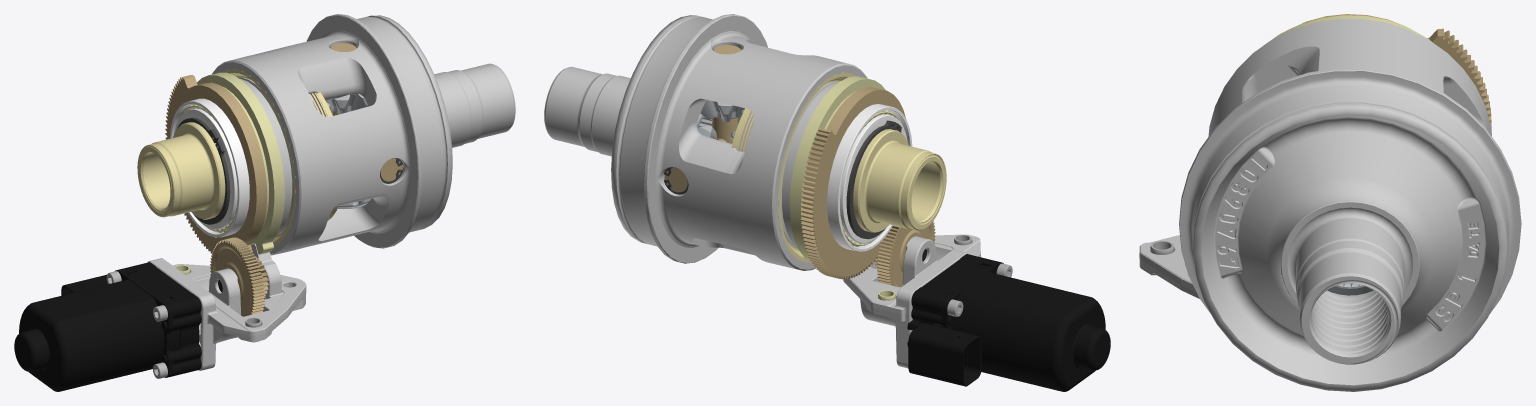
The model's file is TaycanGearRotation10.glb.
3 views of the same model, side by side, from view 1: azimuth 30°, elevation 25°; view 2: azimuth 150°, elevation 25°; view 3: azimuth 270°, elevation 25° (orthographic). The views are drawn at different scales.
Parts seen in each view (by area): view 1: EmptyZupcanici, 1600064752, 1600034146_PRT__G_2, Mesh_136, 1600032356_PRT__G_2, DIN628_SNR_65X92X10_5IR_PRT__A, 1600032111_PRT__D_2, Mesh_138, 1600030653_PRT__E_2, DIN471-A65-2_3_PRT__F_1, Gear 3; view 2: EmptyZupcanici, 1600064752, 1600034146_PRT__G_2, 1600032356_PRT__G_2, Mesh_136, DIN628_SNR_65X92X10_5IR_PRT__A, 1600032111_PRT__D_2, Mesh_138, 1600030653_PRT__E_2, DIN471-A65-2_3_PRT__F_1, 1905540008_PRT__F_10, Gear 3; view 3: EmptyZupcanici, Mesh_136, 1600032356_PRT__G_2, 1600032111_PRT__D_2, 1600032189_PRT__D_2.
Boxes of the visible parts, x1,y1,x2,y2 form: EmptyZupcanici: (212, 14, 515, 255); 1600064752: (14, 262, 201, 391); 1600034146_PRT__G_2: (137, 69, 295, 245); Mesh_136: (147, 244, 306, 370); 1600032356_PRT__G_2: (165, 75, 267, 253); DIN628_SNR_65X92X10_5IR_PRT__A: (169, 98, 249, 237); 1600032111_PRT__D_2: (197, 72, 284, 254); Mesh_138: (210, 237, 268, 316); 1600030653_PRT__E_2: (238, 77, 293, 235); DIN471-A65-2_3_PRT__F_1: (176, 117, 230, 224); Gear 3: (326, 93, 368, 114); EmptyZupcanici: (544, 14, 867, 270); 1600064752: (907, 254, 1110, 391); 1600034146_PRT__G_2: (778, 72, 946, 262); 1600032356_PRT__G_2: (800, 87, 905, 279); Mesh_136: (843, 234, 980, 368); DIN628_SNR_65X92X10_5IR_PRT__A: (827, 104, 912, 251); 1600032111_PRT__D_2: (789, 76, 885, 262); Mesh_138: (875, 220, 935, 287); 1600030653_PRT__E_2: (780, 81, 838, 249); DIN471-A65-2_3_PRT__F_1: (846, 120, 901, 239); 1905540008_PRT__F_10: (712, 45, 741, 143); Gear 3: (700, 100, 744, 122); EmptyZupcanici: (1179, 19, 1521, 391); Mesh_136: (1139, 235, 1199, 298); 1600032356_PRT__G_2: (1288, 14, 1491, 129); 1600032111_PRT__D_2: (1265, 15, 1431, 44); 1600032189_PRT__D_2: (1327, 283, 1373, 295).
Bounding box in the file's own units: 0.3733 × 0.1959 × 0.1757.
